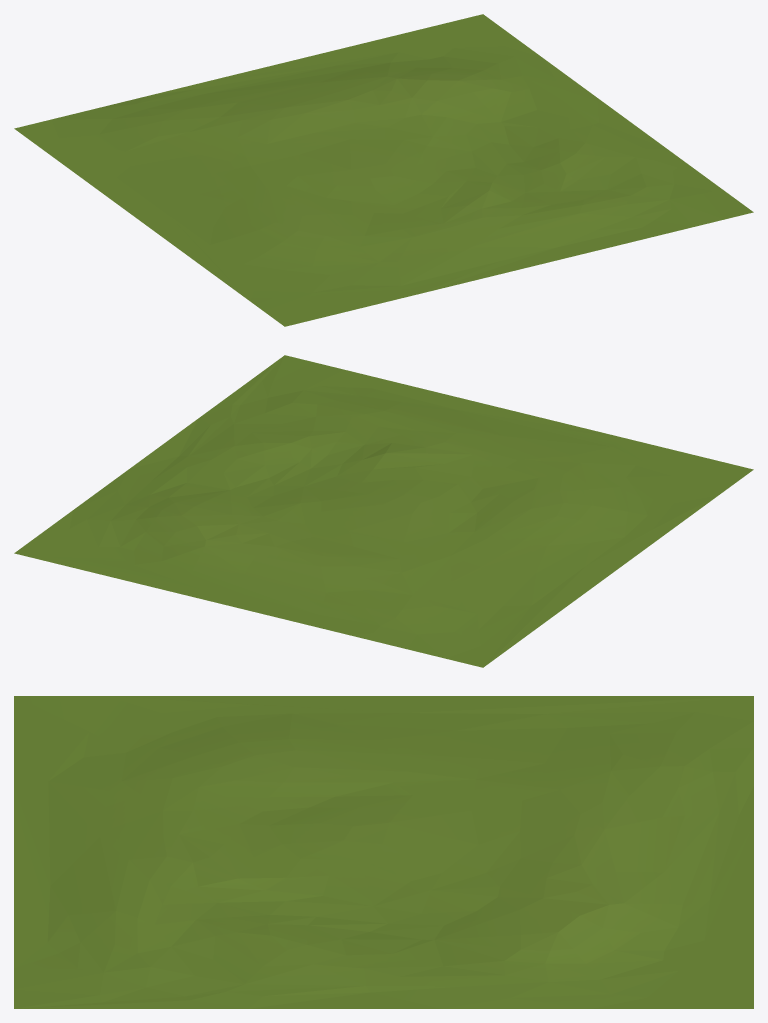
Rendered from Terrain_03.glb.
The picture shows the model from 3 angles, top to bottom: view 1: azimuth 30°, elevation 25°; view 2: azimuth 150°, elevation 25°; view 3: azimuth 270°, elevation 25°; orthographic projection. The views are drawn at different scales.
Visible parts, largest first — view 1: Terrain_03; view 2: Terrain_03; view 3: Terrain_03.
Part boxes in pixels (bbox=[...]): Terrain_03: bbox=[14, 14, 753, 326]; Terrain_03: bbox=[14, 355, 753, 667]; Terrain_03: bbox=[14, 696, 753, 1008].
Bounding box in the file's own units: 128 × 2.57 × 128.
Materials: 1 (1 with a texture image).
